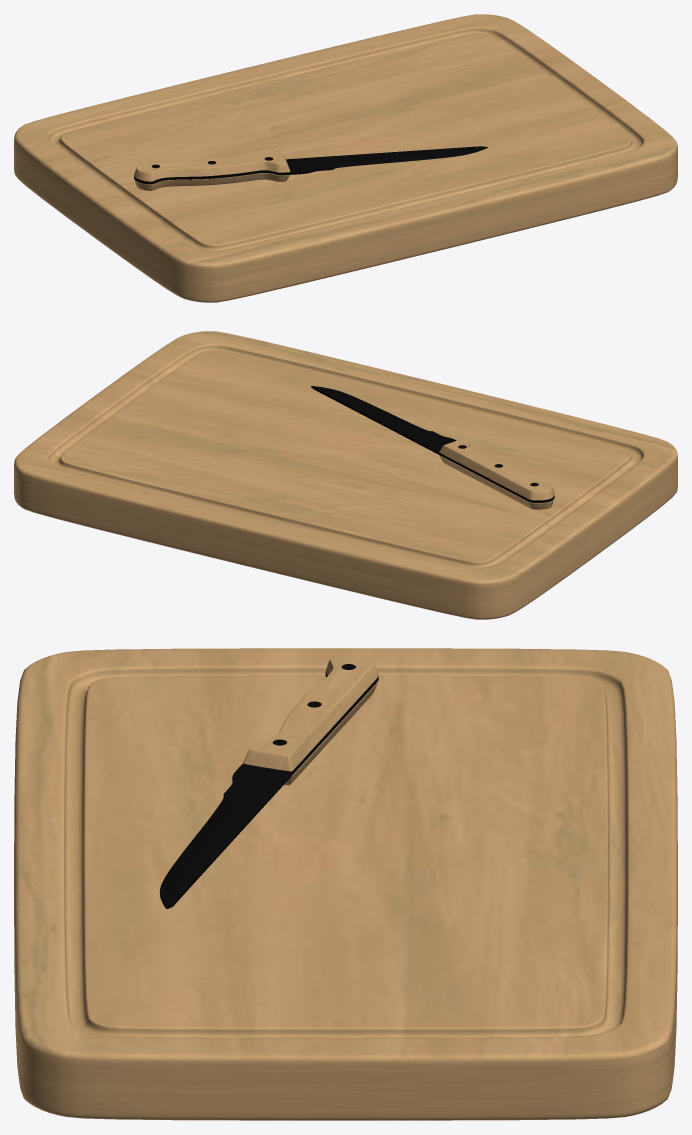
Rendered from cutting_board.gltf.
3 renders of one model, top to bottom at view 1: azimuth 30°, elevation 25°; view 2: azimuth 150°, elevation 25°; view 3: azimuth 270°, elevation 25°, orthographic. The views are drawn at different scales.
Parts seen in each view (by area): view 1: Geode; view 2: Geode; view 3: Geode.
Boxes of the visible parts, x1,y1,x2,y2 form: Geode: [14, 14, 677, 302]; Geode: [14, 331, 677, 619]; Geode: [14, 648, 677, 1120].
Size of the model in its own units: 0.4053 by 0.0443 by 0.2765.
Materials: 3 (3 with a texture image).
